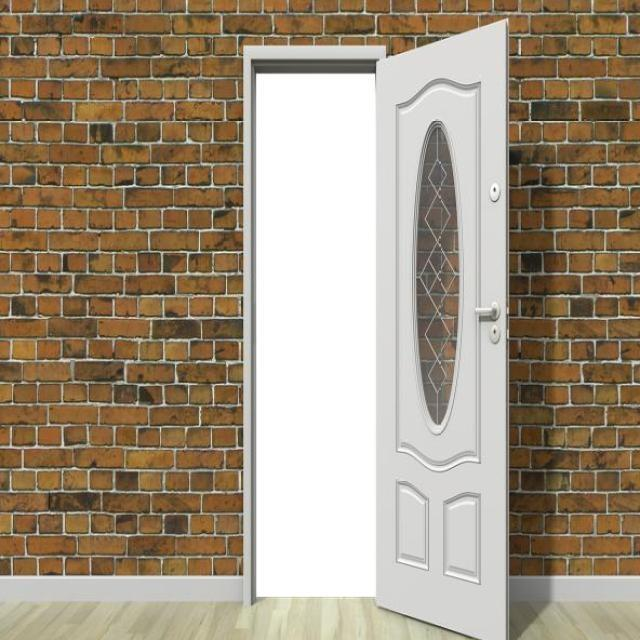door: (374, 16, 510, 639)
